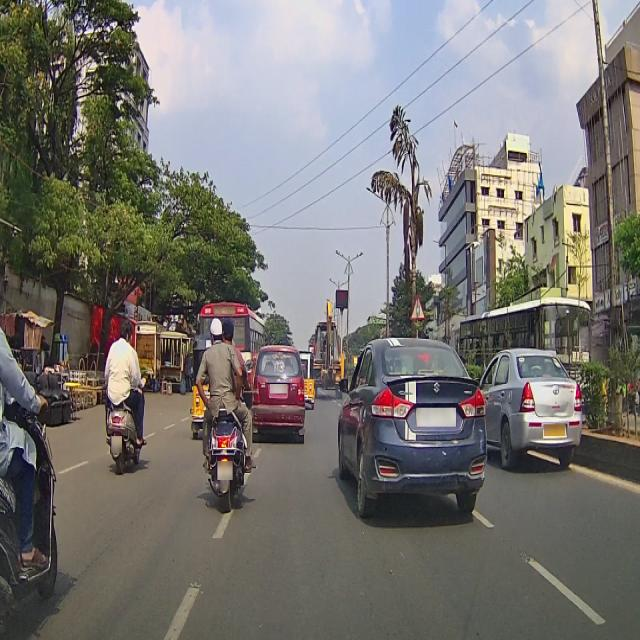car ahead at: (339, 334, 487, 512), (485, 348, 585, 469), (254, 348, 304, 434)
motorcycle ahead at: (0, 328, 56, 620), (196, 406, 254, 502), (103, 398, 147, 466)
